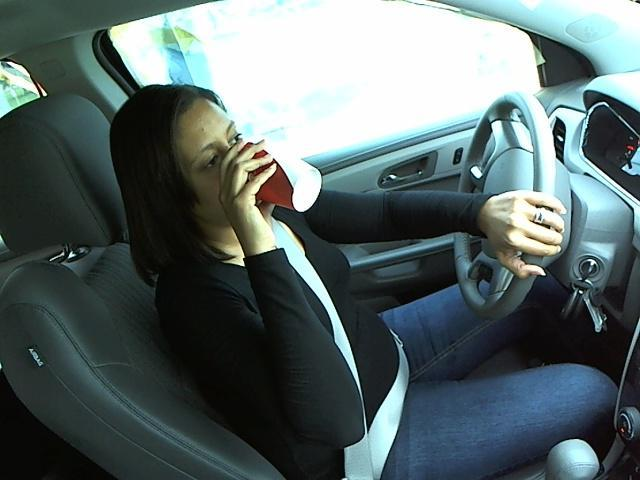Drinking: (155, 94, 322, 213)
